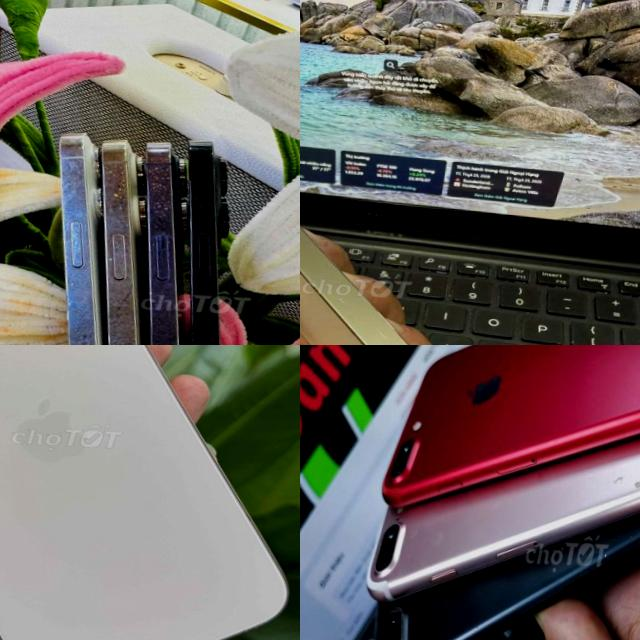gen_12_13: (300, 26, 492, 345)
gen_14: (27, 124, 269, 345)
gen_16: (0, 345, 287, 640)
gen_7_8: (371, 434, 640, 605)
